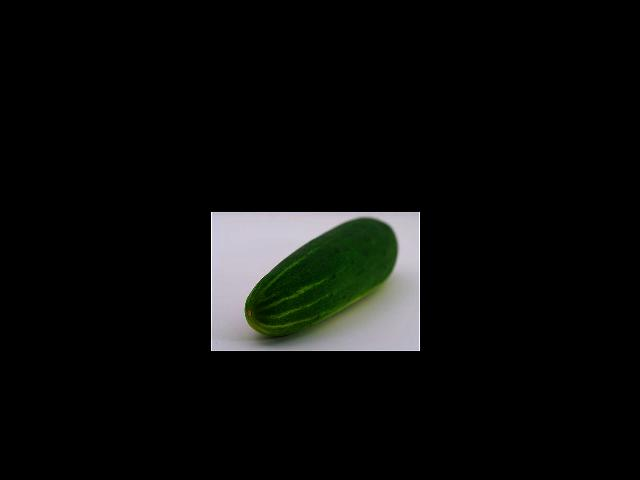cucumber: (245, 218, 397, 336)
